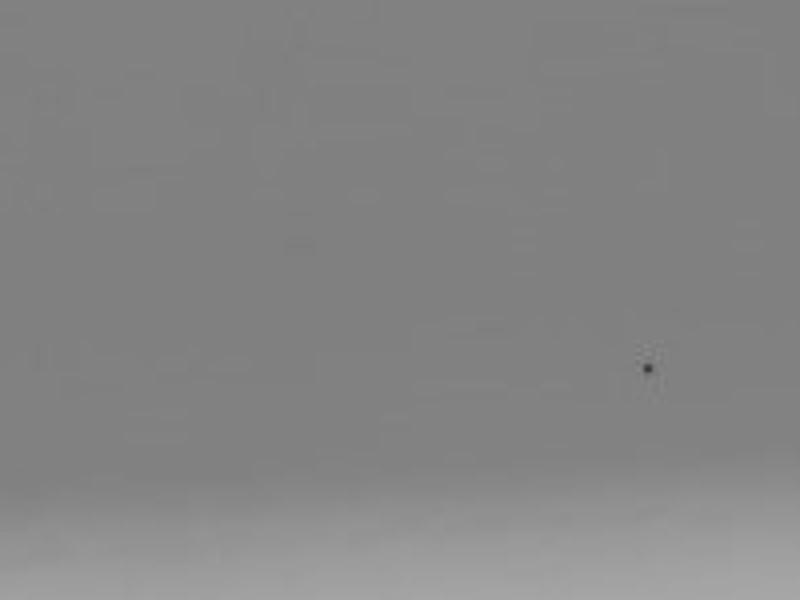defect: (639, 359, 656, 378)
